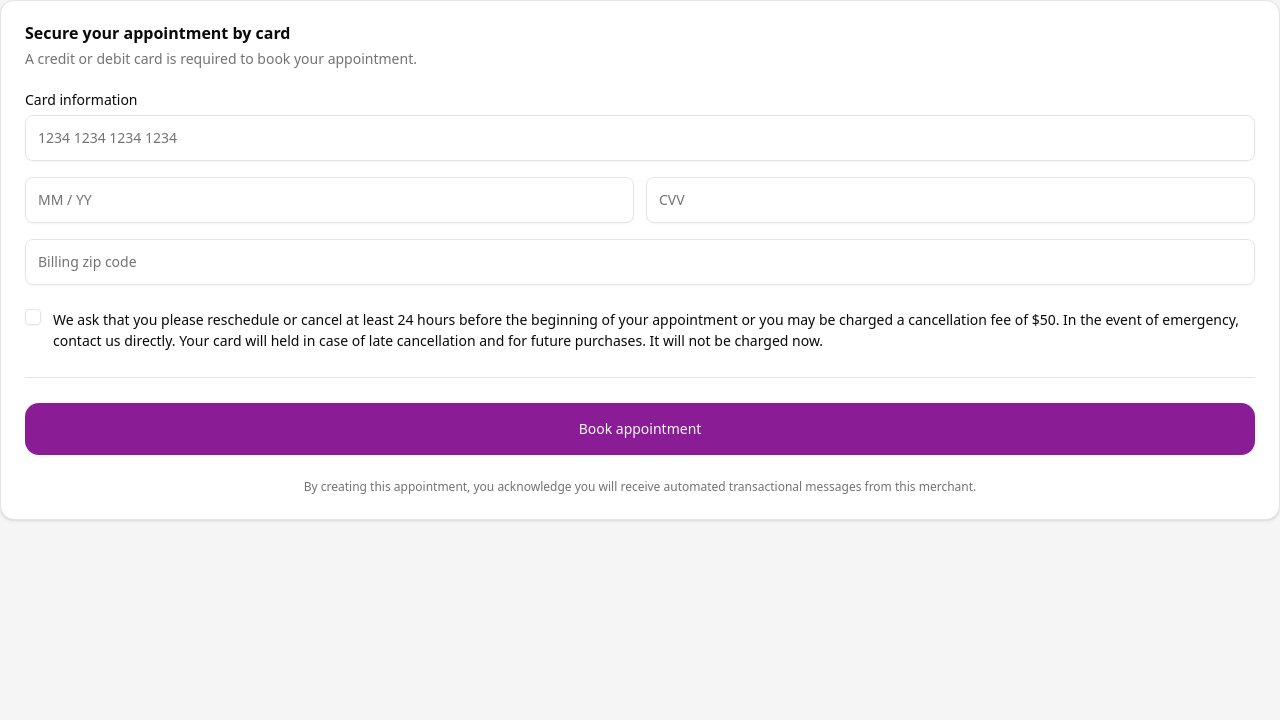
Test: PaymentDetailsForm › shows all required errors on empty submit
This screenshot has width=1280, height=720.
Click the button "Book appointment" at [640, 429], box [25, 403, 1255, 455]
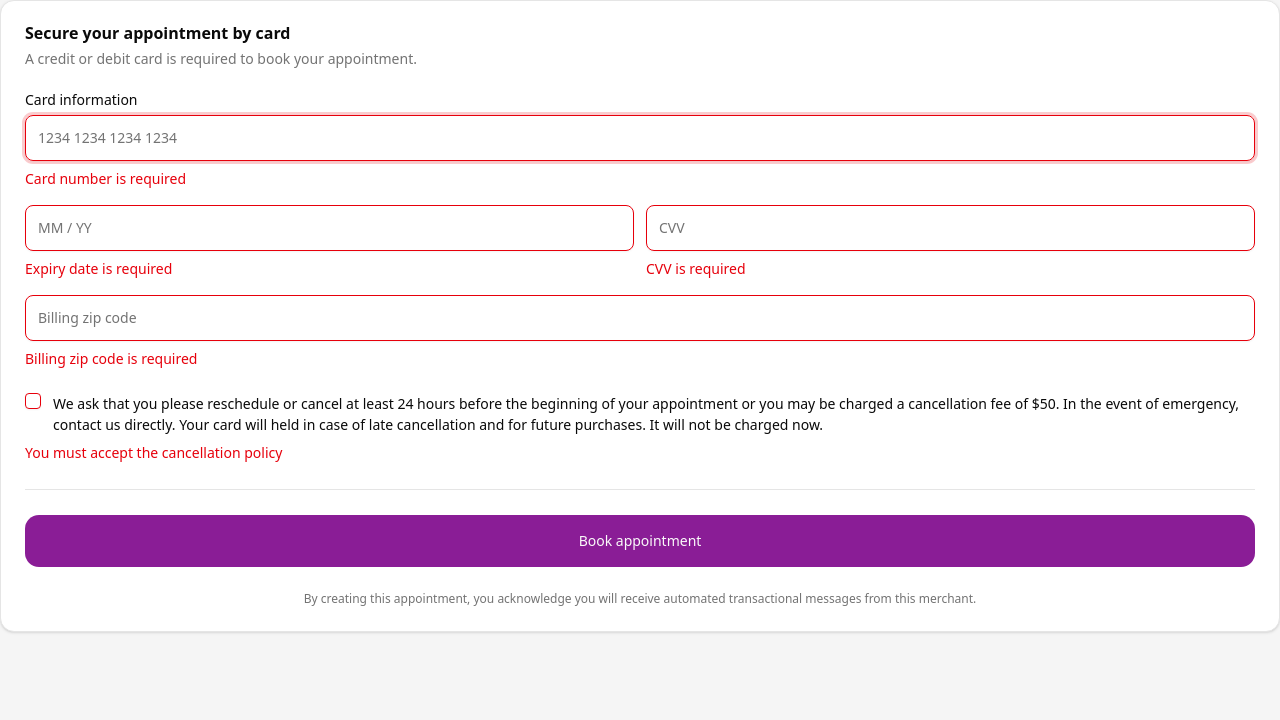
Check: the text "Card number is required" is shown, box [25, 169, 186, 188]
Check: the text "Expiry date is required" is shown, box [25, 259, 172, 278]
Check: the text "CVV is required" is shown, box [646, 259, 746, 278]
